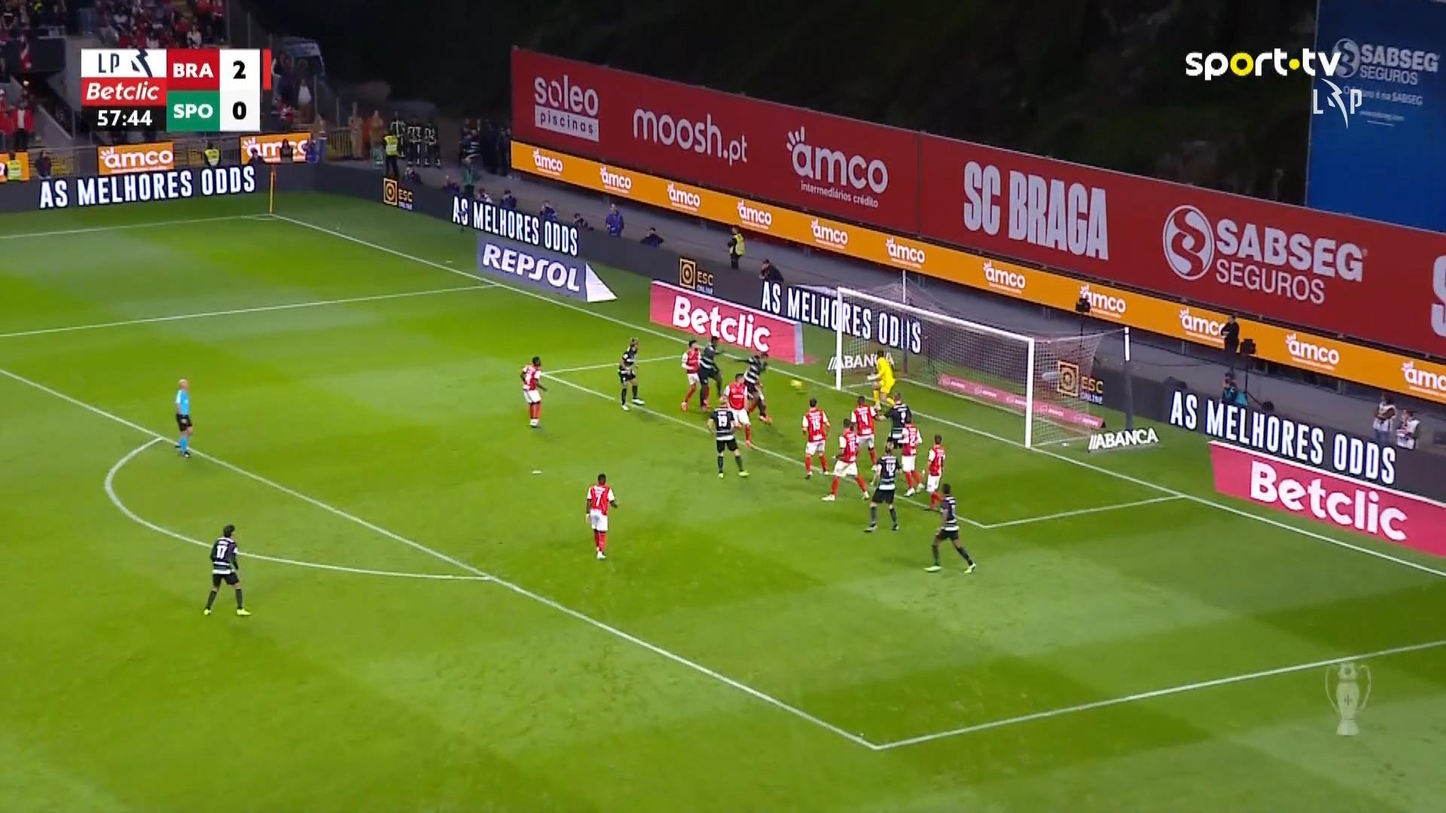ball: (789, 378, 801, 391)
goalkeeper: (865, 348, 896, 411)
player: (923, 483, 976, 574), (202, 523, 252, 616), (820, 416, 869, 501), (705, 394, 749, 479), (862, 439, 901, 531), (584, 472, 618, 559), (722, 372, 755, 448), (800, 397, 830, 479), (742, 346, 771, 423), (895, 416, 923, 495), (697, 334, 725, 410), (519, 355, 548, 428), (850, 394, 878, 469), (617, 336, 645, 410), (679, 338, 705, 411), (883, 390, 912, 449), (923, 434, 945, 510)
referee: (173, 377, 194, 458), (1220, 370, 1248, 407), (1219, 312, 1240, 352)
